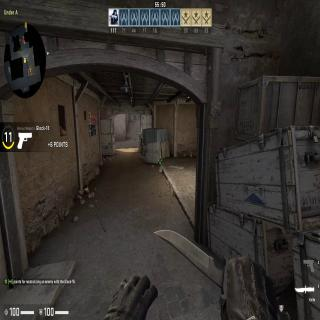CT-Body: (140, 137, 142, 155)
CT-Head: (140, 137, 142, 141)
